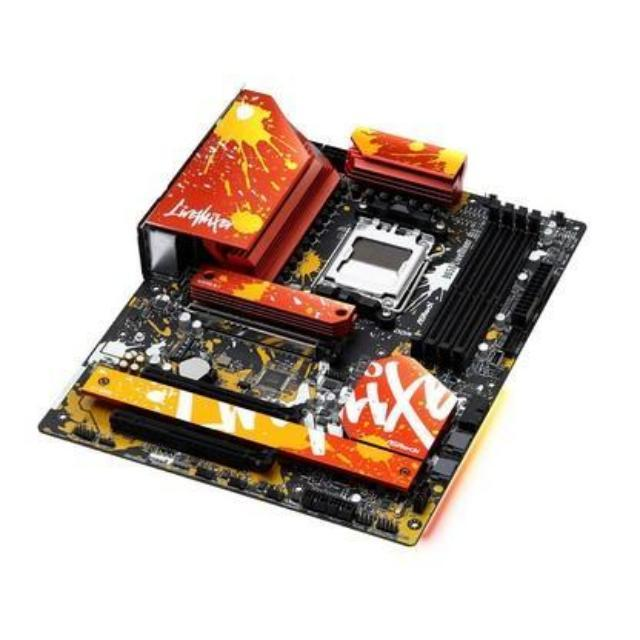Mainboard: (41, 82, 594, 550)
